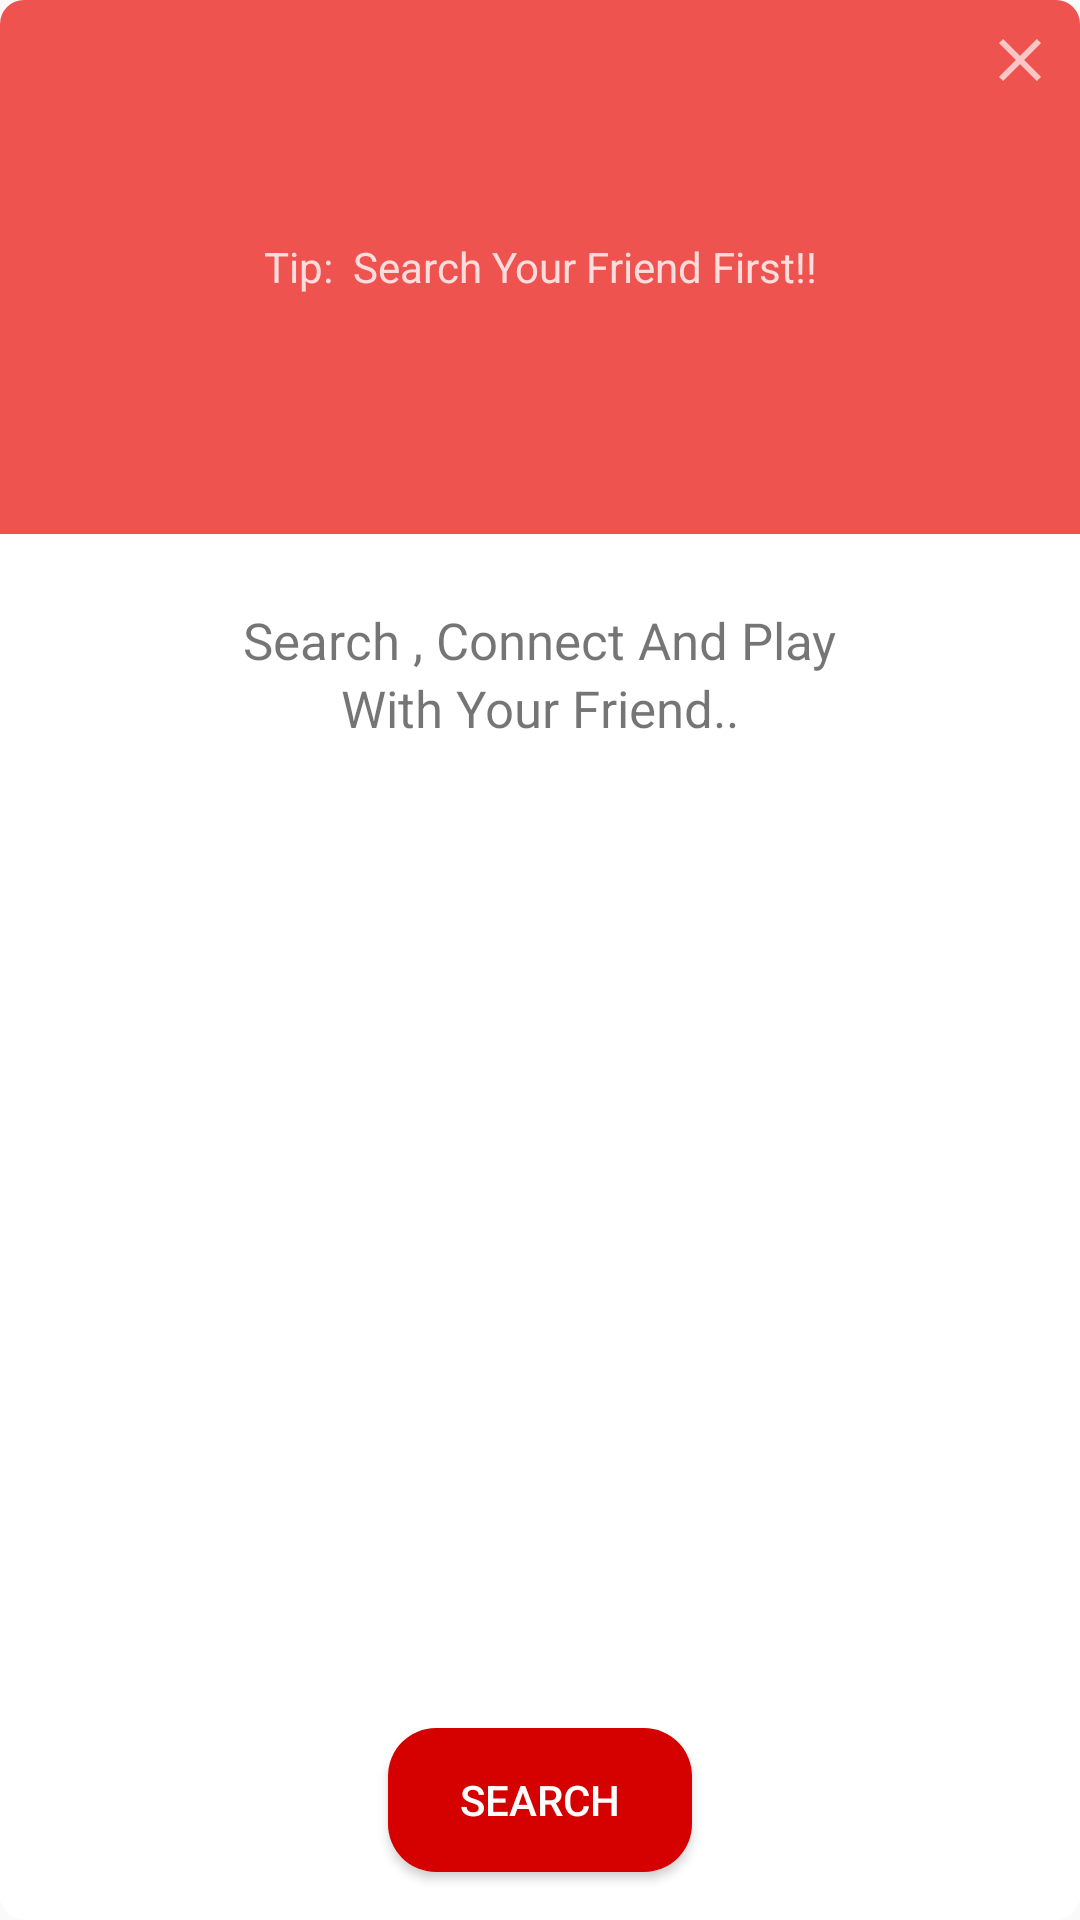

Icon click points for this 1080px x 1920px phone screenshot, format (x,y):
close: (1020,60)
